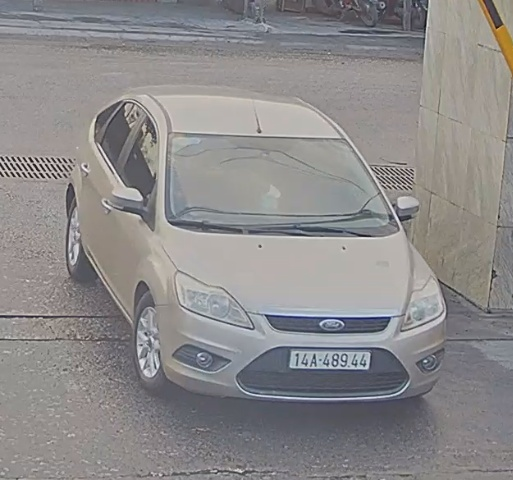vehicle plate: (288, 348, 373, 373)
